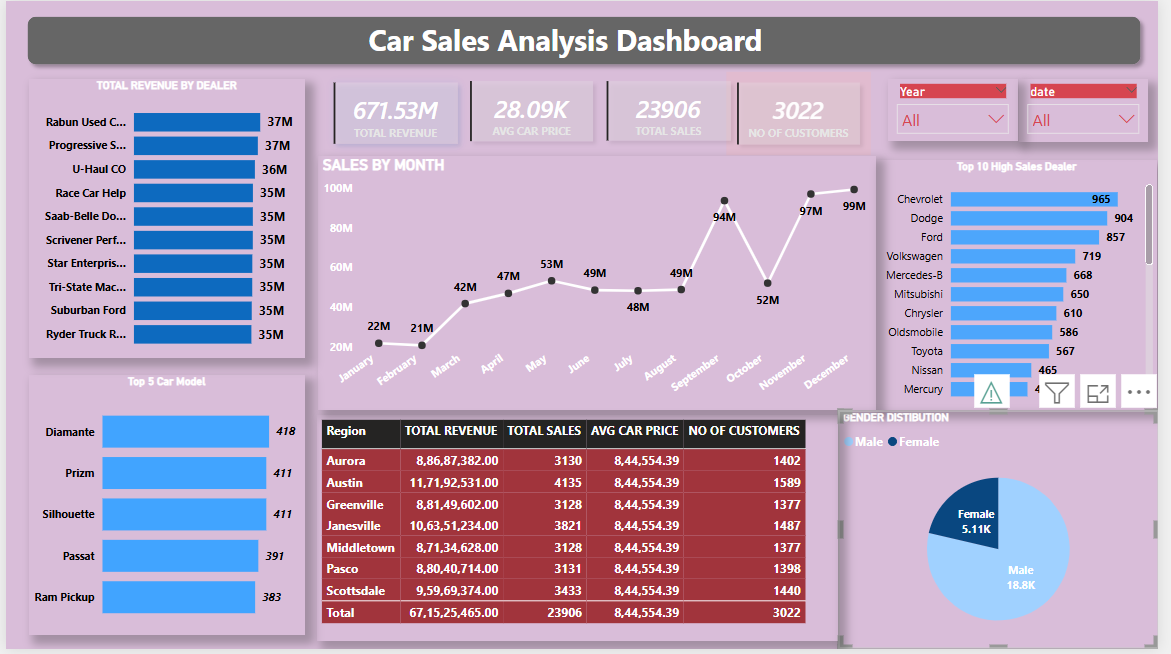

Layout of this report page (visuals, bound fields, positions):
{"tool":"powerbi","page":{"name":"DASHBOARD","canvas":[1280,720],"ordinal":0},"visuals":[{"type":"shape","box":[14.5,8.4,1254.7,71.2],"z":0},{"type":"textbox","box":[245.6,15.1,753.3,59],"z":1000},{"type":"cardVisual","fields":{"Data":["avg_price_each_company.TOTAL REVENUE"]},"box":[346.9,73.8,172.5,102.5],"z":2000},{"type":"cardVisual","fields":{"Data":["avg_price_each_company.NO OF CUSTOMERS"]},"box":[794.8,73.6,171.8,103.8],"z":3000},{"type":"cardVisual","fields":{"Data":["avg_price_each_company.TOTAL SALES"]},"box":[650,71.4,172.9,100],"z":4000},{"type":"cardVisual","fields":{"Data":["avg_price_each_company.AVG CAR PRICE"]},"box":[498.6,71.4,171.4,101.4],"z":5000},{"type":"lineChart","title":"SALES BY MONTH","fields":{"Y":["car_sales.total_sales"],"Category":["car_sales.date.Variation.Date Hierarchy.Month"]},"box":[347.1,171.4,620,282.9],"z":6000},{"type":"barChart","title":"TOTAL REVENUE BY DEALER","fields":{"Category":["car_sales.dealer_name"],"Y":["Sum(car_sales.price)"]},"box":[25.7,87.1,307.1,310],"z":7000},{"type":"barChart","title":"Top 10 High compnay wise Sales ","fields":{"Y":["car_sales.sales_count"],"Category":["car_sales.company"]},"box":[967.1,177.1,312.9,277.1],"z":8000},{"type":"pieChart","title":"GENDER DISTIBUTION","fields":{"Y":["CountNonNull(car_sales.car_id_no)"],"Category":["car_sales.gender"]},"box":[925.1,455,354.9,264.3],"z":9000},{"type":"barChart","title":"Top 5 Car Model","fields":{"Category":["car_sales.model"],"Y":["CountNonNull(car_sales.car_id_no)"]},"box":[25.7,414.3,307.1,290],"z":10000},{"type":"tableEx","fields":{"Values":["car_sales.dealer_region","avg_price_each_company.TOTAL REVENUE","avg_price_each_company.TOTAL SALES","Sum(avg_price_each_company.average_price)","avg_price_each_company.NO OF CUSTOMERS"]},"box":[345.5,460.6,579.6,251.1],"z":11000},{"type":"slicer","fields":{"Values":["car_sales.date.Variation.Date Hierarchy.Year"]},"box":[980,87.1,144.3,68.6],"z":12000},{"type":"slicer","fields":{"Values":["car_sales.date"]},"box":[1124.3,87.1,144.3,70],"z":13000}]}

Visuals, with their boxes in screenshot pixels (x1, y1, x2, y2), scaled from the page's 1280x720 canvas onto the 1171x654 screenshot:
shape: [13,8,1161,72]
textbox: [225,14,914,67]
cardVisual - avg_price_each_company.TOTAL REVENUE: [317,67,475,160]
cardVisual - avg_price_each_company.NO OF CUSTOMERS: [727,67,884,161]
cardVisual - avg_price_each_company.TOTAL SALES: [595,65,753,156]
cardVisual - avg_price_each_company.AVG CAR PRICE: [456,65,613,157]
"SALES BY MONTH" lineChart: [318,156,885,413]
"TOTAL REVENUE BY DEALER" barChart: [24,79,304,361]
"Top 10 High compnay wise Sales " barChart: [885,161,1170,413]
"GENDER DISTIBUTION" pieChart: [846,413,1170,653]
"Top 5 Car Model" barChart: [24,376,304,640]
tableEx - car_sales.dealer_region x avg_price_each_company.TOTAL REVENUE: [316,418,846,646]
slicer - car_sales.date.Variation.Date Hierarchy.Year: [897,79,1029,141]
slicer - car_sales.date: [1029,79,1161,143]
